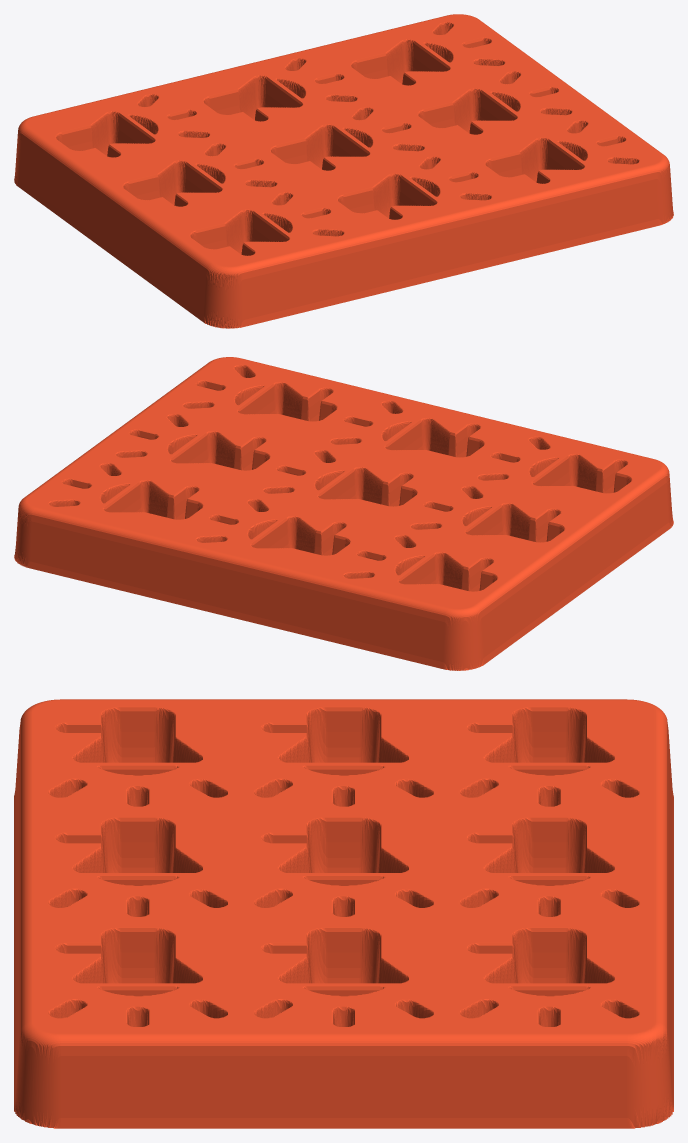
File: mold.glb
3 renders of one model, top to bottom at view 1: azimuth 30°, elevation 25°; view 2: azimuth 150°, elevation 25°; view 3: azimuth 270°, elevation 25°, orthographic. The views are drawn at different scales.
Parts seen in each view (by area): view 1: geometry_0; view 2: geometry_0; view 3: geometry_0.
Boxes of the visible parts, x1,y1,x2,y2 form: geometry_0: (14,14,673,328); geometry_0: (14,357,673,670); geometry_0: (14,699,673,1128).
Size of the model in its own units: 0.1595 by 0.0185 by 0.1275.
